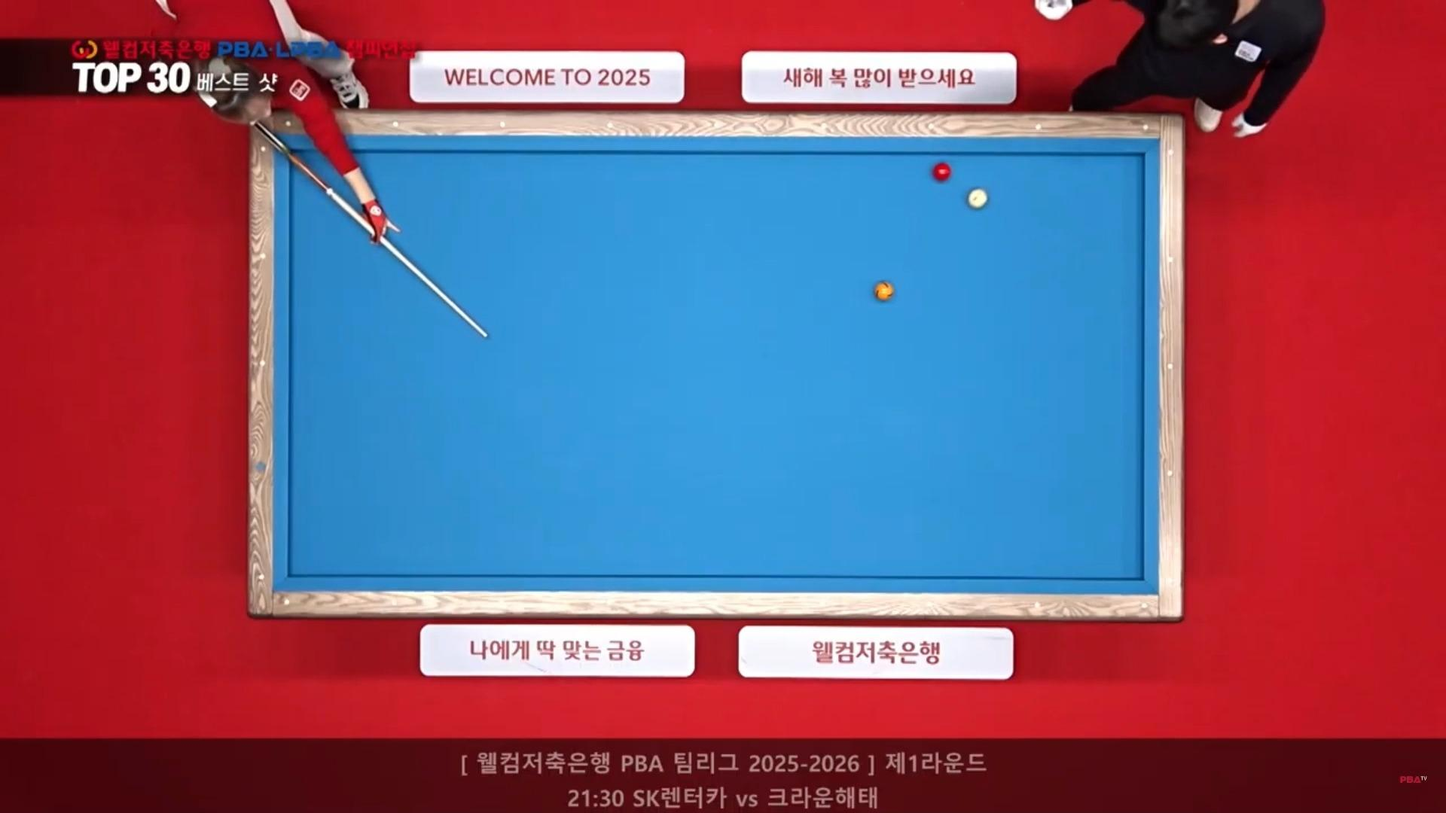Red: (932, 163, 955, 182)
White: (964, 188, 990, 208)
Yellow: (872, 284, 896, 303)
